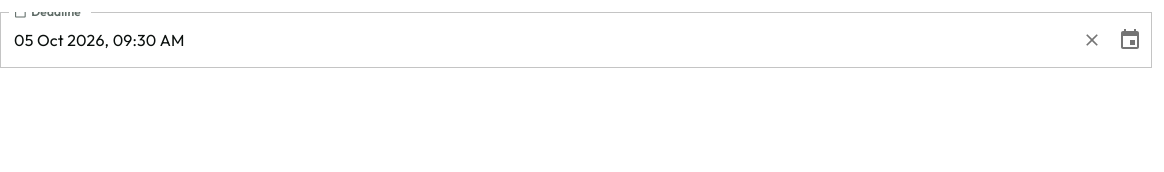
Test: IsoDateTimeField › keeps the saved date while only the year is deleted, and says so
The width and height of the screenshot is (1164, 172).
Press the mouse on the number field named "Year" at [86, 40], box x1=67 y1=30 x2=105 y2=50
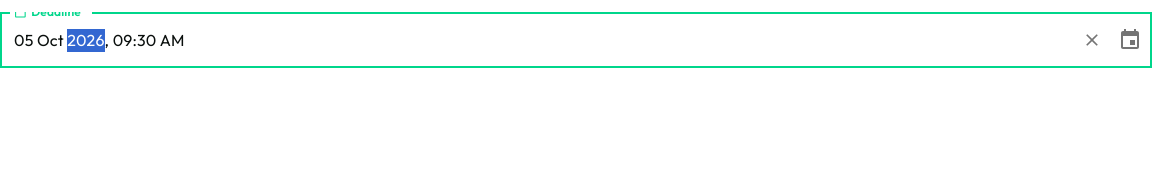
Press Delete in the number field named "Year", box x1=67 y1=30 x2=105 y2=50
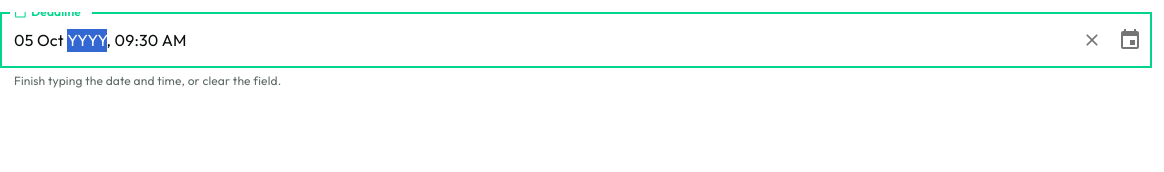
Expected: the number field named "Day" reads "05", x1=14 y1=30 x2=34 y2=50
Result: the text "Finish typing the date and time, or clear the field." is shown at x1=14 y1=73 x2=281 y2=88
